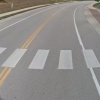crosswalk: (0, 47, 99, 69)
